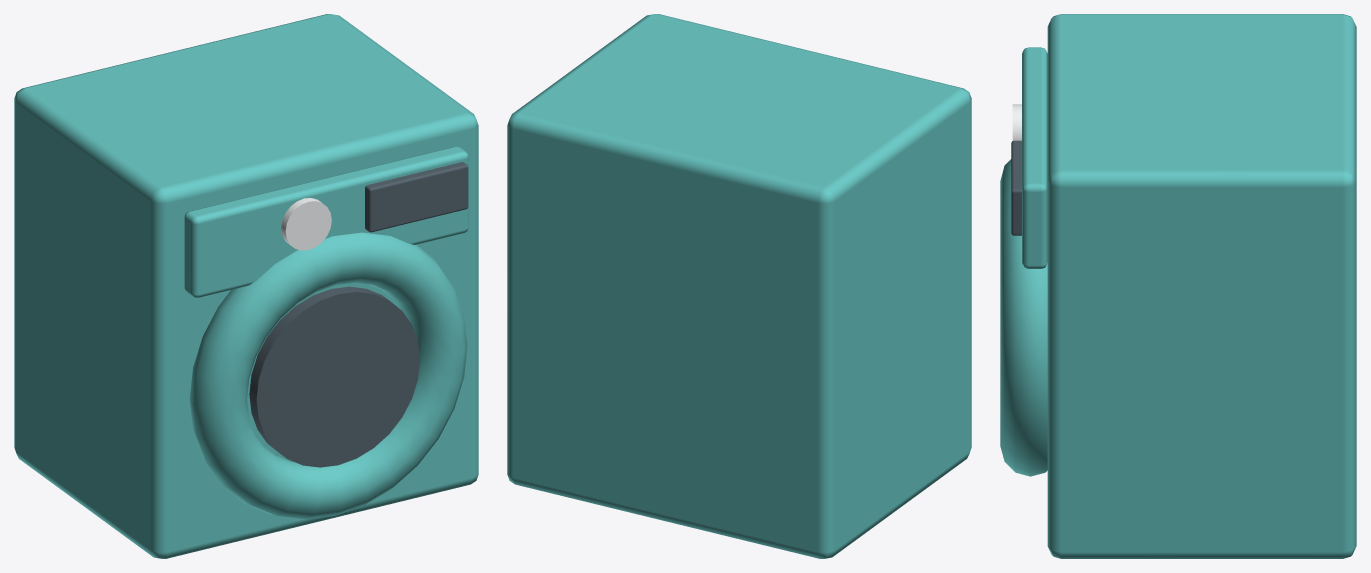
File: living-washing-machine.glb
3 views of the same model, side by side, from view 1: azimuth 30°, elevation 25°; view 2: azimuth 150°, elevation 25°; view 3: azimuth 270°, elevation 25° (orthographic). The views are drawn at different scales.
Parts seen in each view (by area): view 1: body, door-ring, door-glass, control-panel, display, dial; view 2: body; view 3: body, door-ring, control-panel, display.
Boxes of the visible parts, box(x1,y1,x2,y2) form: body: box(14, 14, 478, 558); door-ring: box(189, 232, 467, 519); door-glass: box(249, 286, 419, 467); control-panel: box(184, 146, 468, 297); display: box(365, 162, 468, 232); dial: box(281, 198, 331, 250); body: box(507, 14, 971, 558); body: box(1047, 14, 1356, 558); door-ring: box(1000, 159, 1047, 476); control-panel: box(1022, 47, 1047, 268); display: box(1011, 140, 1021, 235).
Size of the model in its own units: 0.92 by 1 by 0.83.
